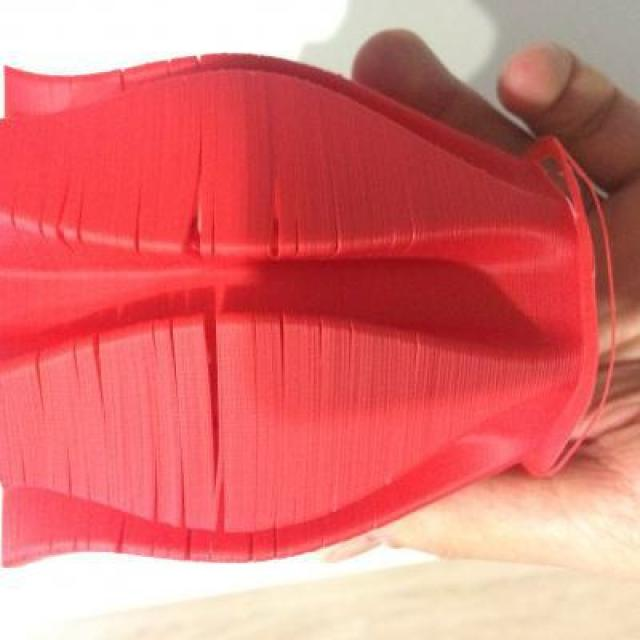Warping: (189, 304, 230, 406), (86, 336, 114, 392), (177, 208, 208, 254), (259, 214, 291, 258), (205, 491, 236, 534), (268, 313, 294, 359), (144, 474, 168, 523), (124, 213, 150, 250), (108, 522, 130, 554)
